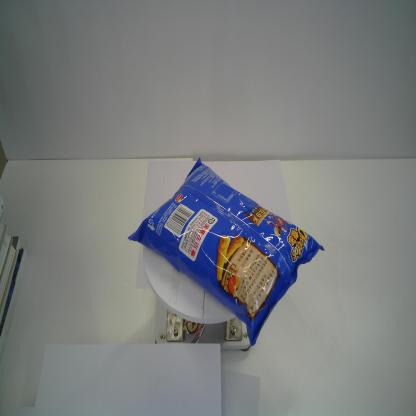Puffed Food: (126, 155, 326, 348)
